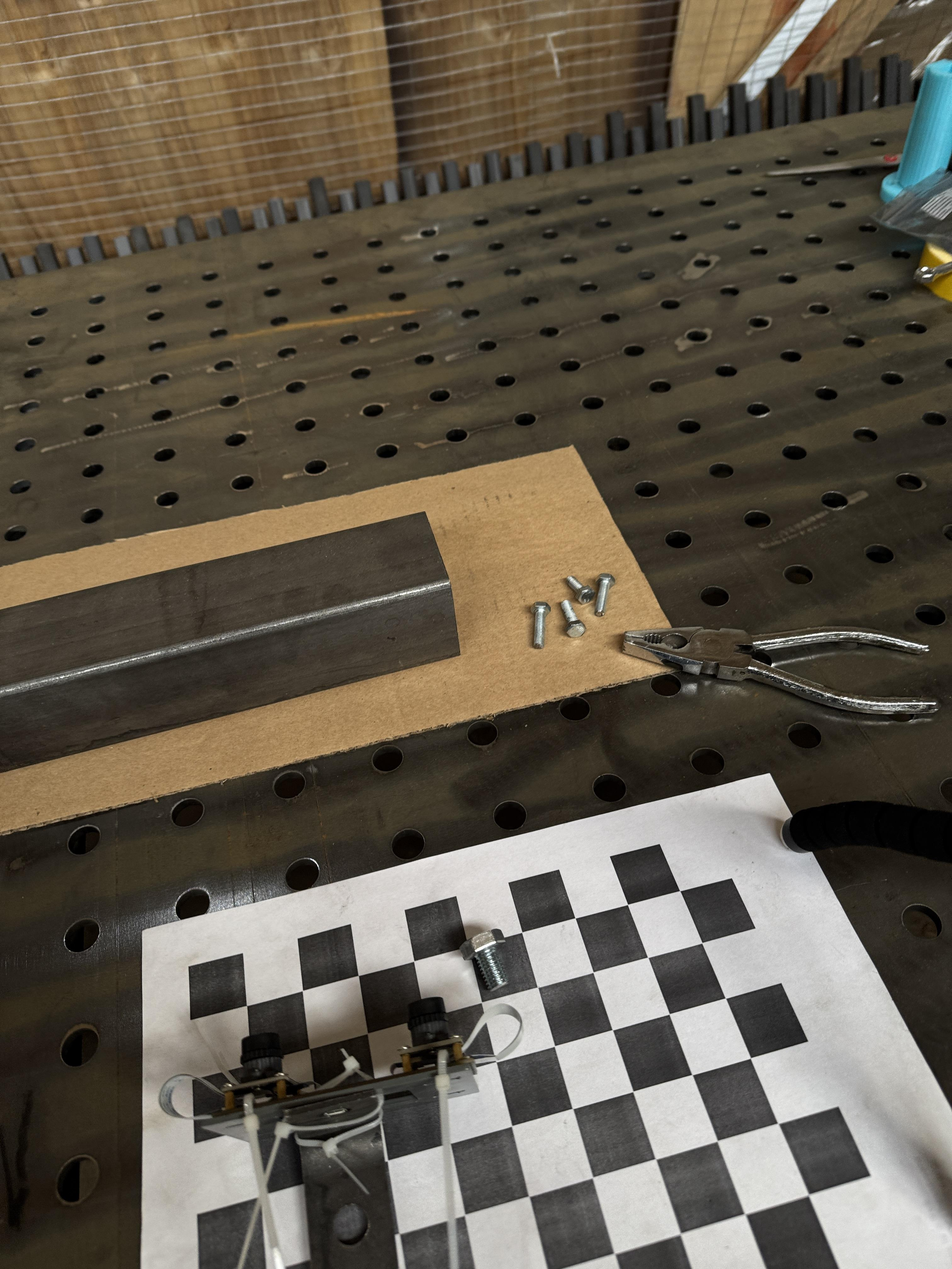detail: (0, 511, 461, 773)
